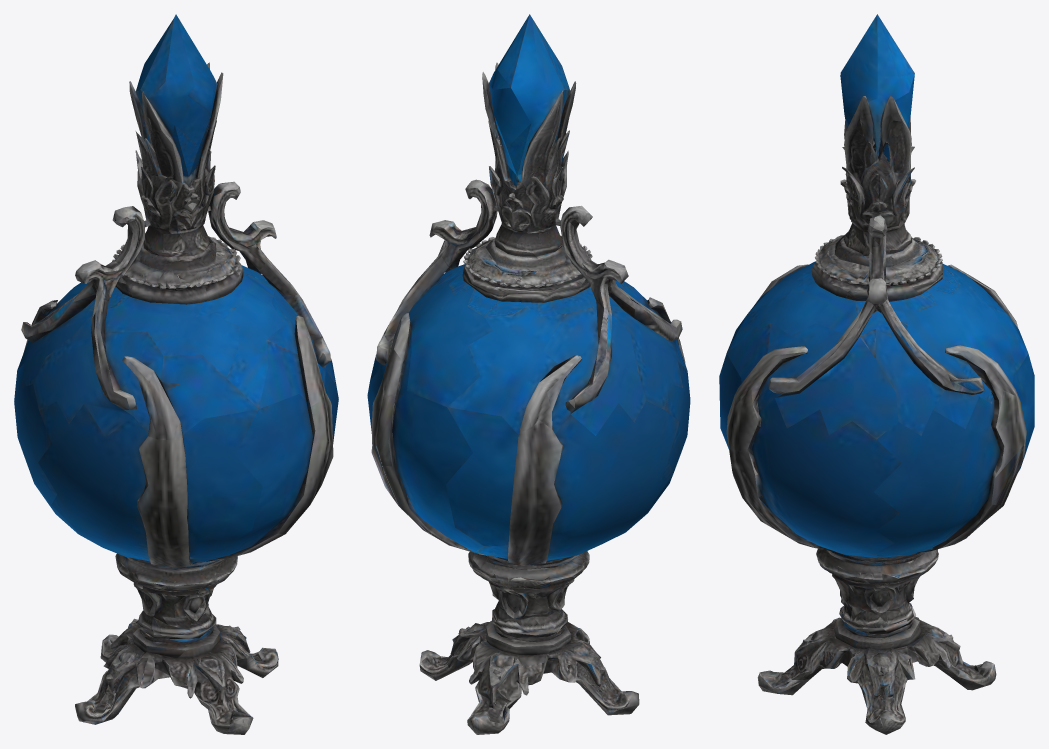
Rendered from weapon-orb.glb.
3 views of the same model, side by side, from view 1: azimuth 30°, elevation 25°; view 2: azimuth 150°, elevation 25°; view 3: azimuth 270°, elevation 25° (orthographic).
Size of the model in its own units: 0.1496 by 0.3504 by 0.1489.
Materials: 1 (1 with a texture image).
